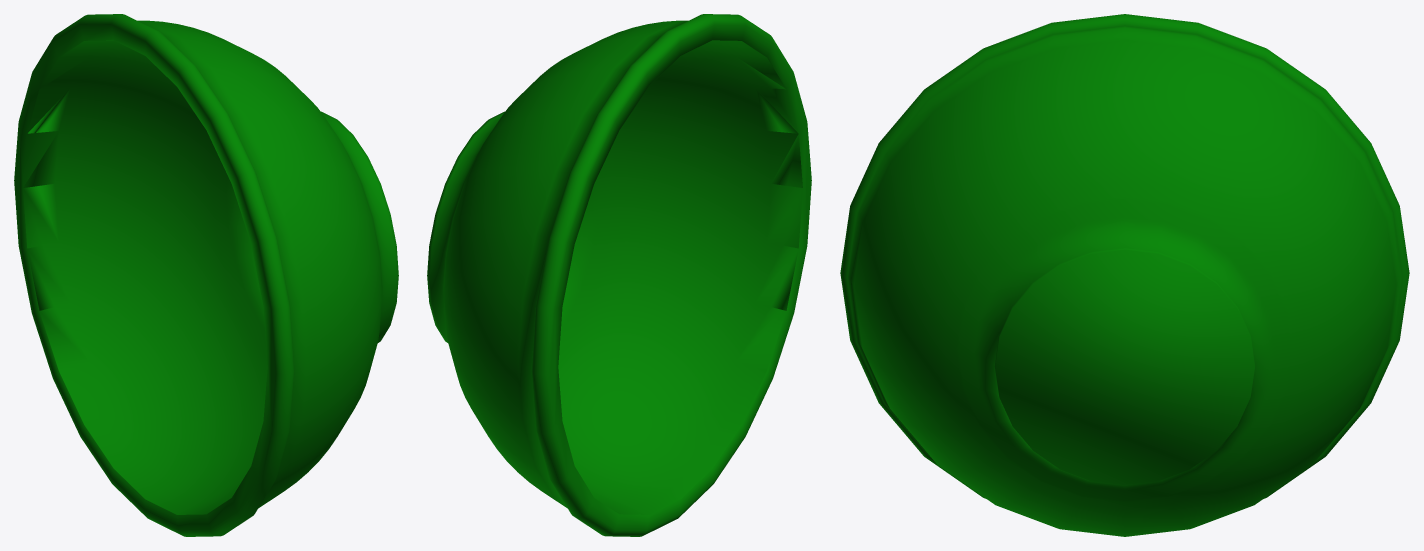
The model's file is bowl1_2.dae.
3 renders of one model, left to right at view 1: azimuth 30°, elevation 25°; view 2: azimuth 150°, elevation 25°; view 3: azimuth 270°, elevation 25°, orthographic. The views are drawn at different scales.
Parts seen in each view (by area): view 1: bowl1; view 2: bowl1; view 3: bowl1.
Part boxes in pixels (<box>): bowl1: <box>14,14,398,536</box>; bowl1: <box>427,14,811,536</box>; bowl1: <box>840,14,1409,536</box>.
Size of the model in its own units: 0.0185 by 0.045 by 0.045.
